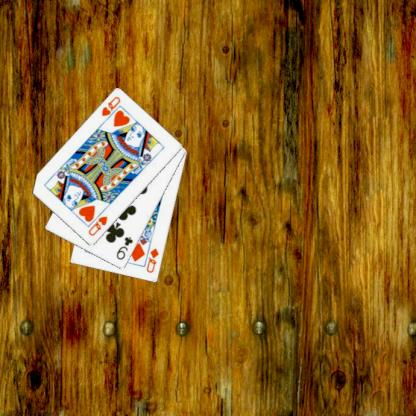9C: (113, 234, 134, 262)
QD: (144, 245, 160, 274)
QH: (99, 94, 122, 124), (86, 214, 108, 238)
